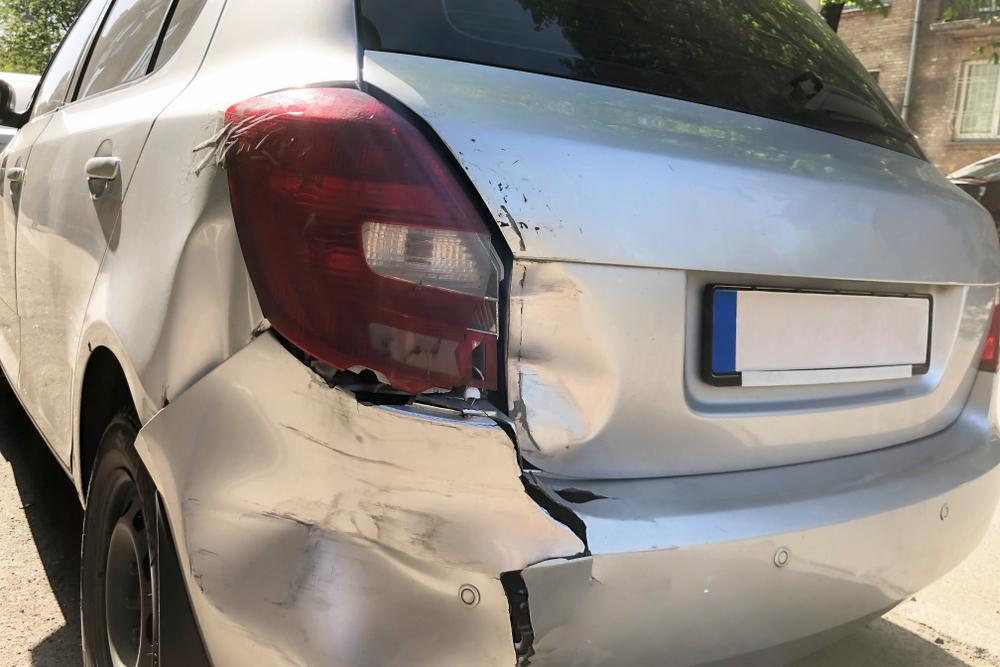crack: (408, 413, 605, 667), (551, 487, 627, 504)
dent: (205, 529, 367, 667), (505, 261, 619, 453), (162, 219, 251, 402)
lamp broken: (224, 86, 515, 415)
scratch: (257, 387, 458, 564)
